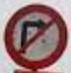Cam re: (5, 6, 66, 67)
